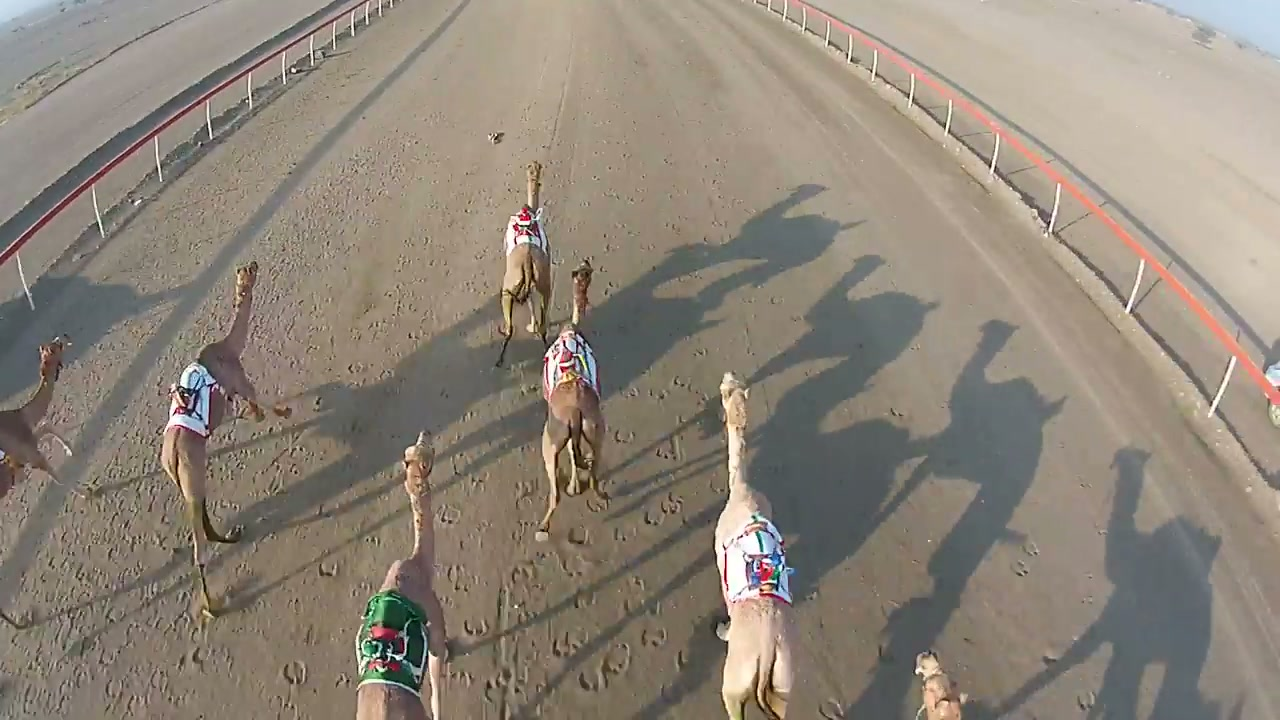animal_foot_print: (428, 378, 691, 700), (875, 369, 1104, 718), (268, 522, 368, 717)
